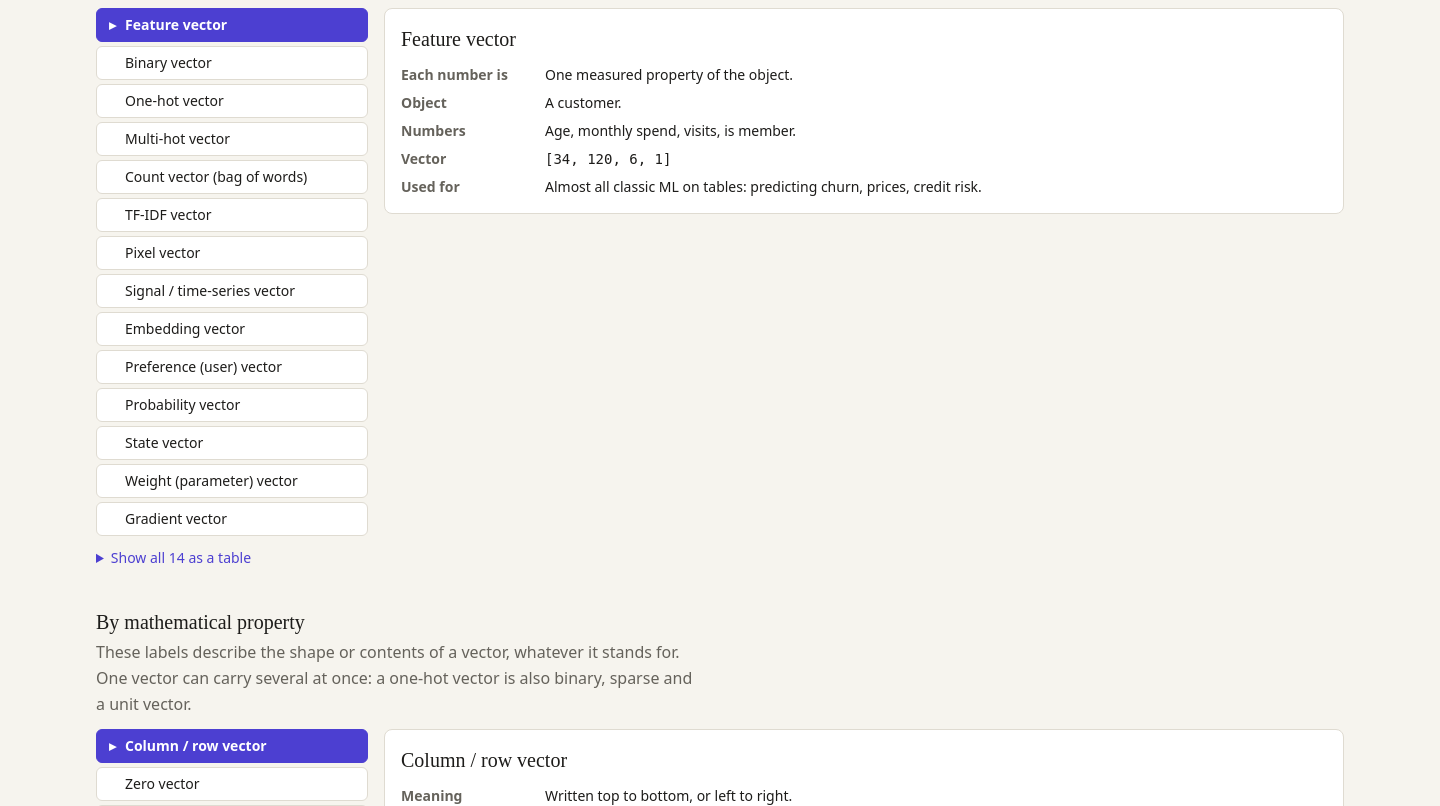
it: Reference page: types of vector › choosing a type shows its object, numbers, vector and use
(page scrolled)
Click the button "Probability vector" at (232, 405), box [96,388,368,422]
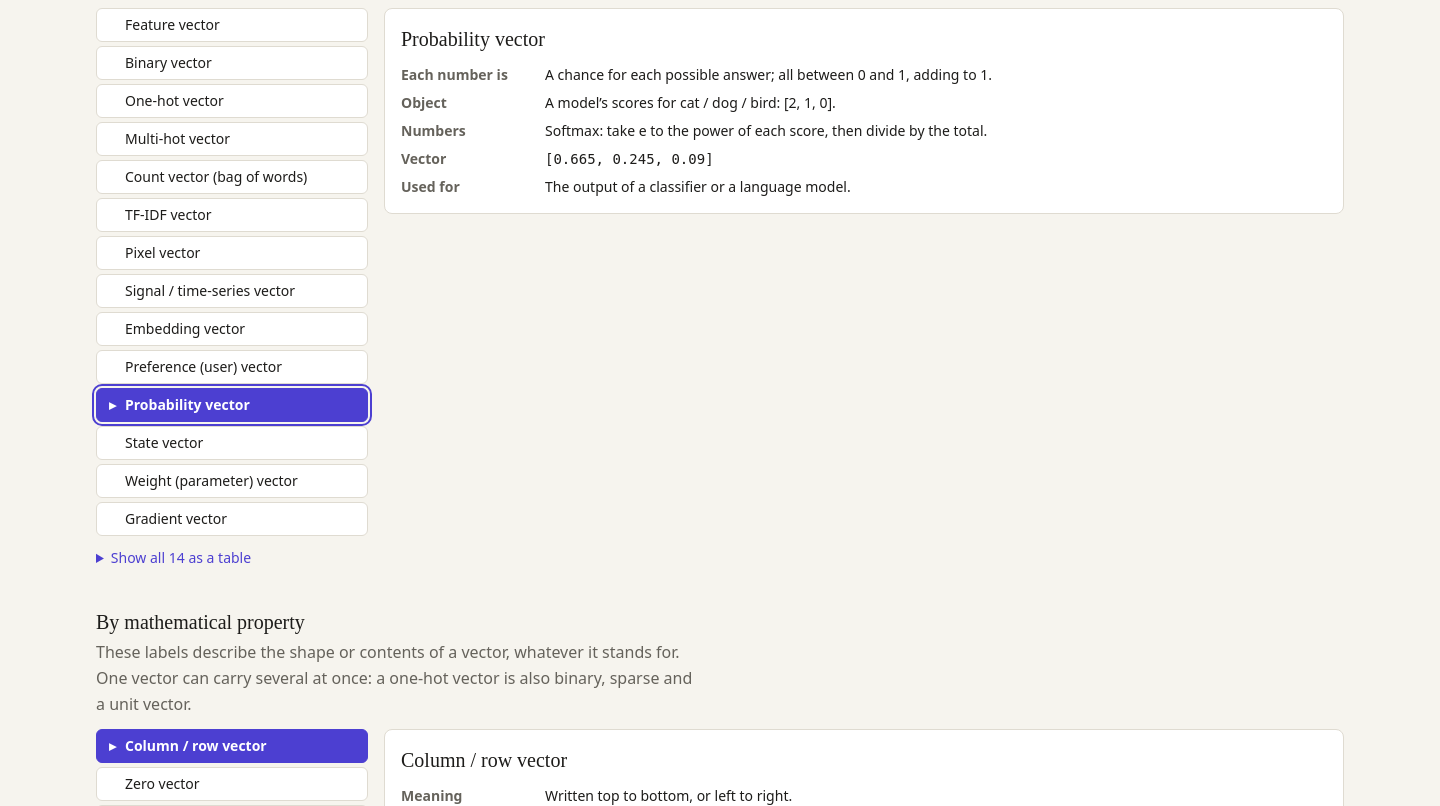
Expected: the text "Each number is" is shown, [401,65,508,84]
Expected: the heading "Probability vector" is shown, [401,28,545,50]
